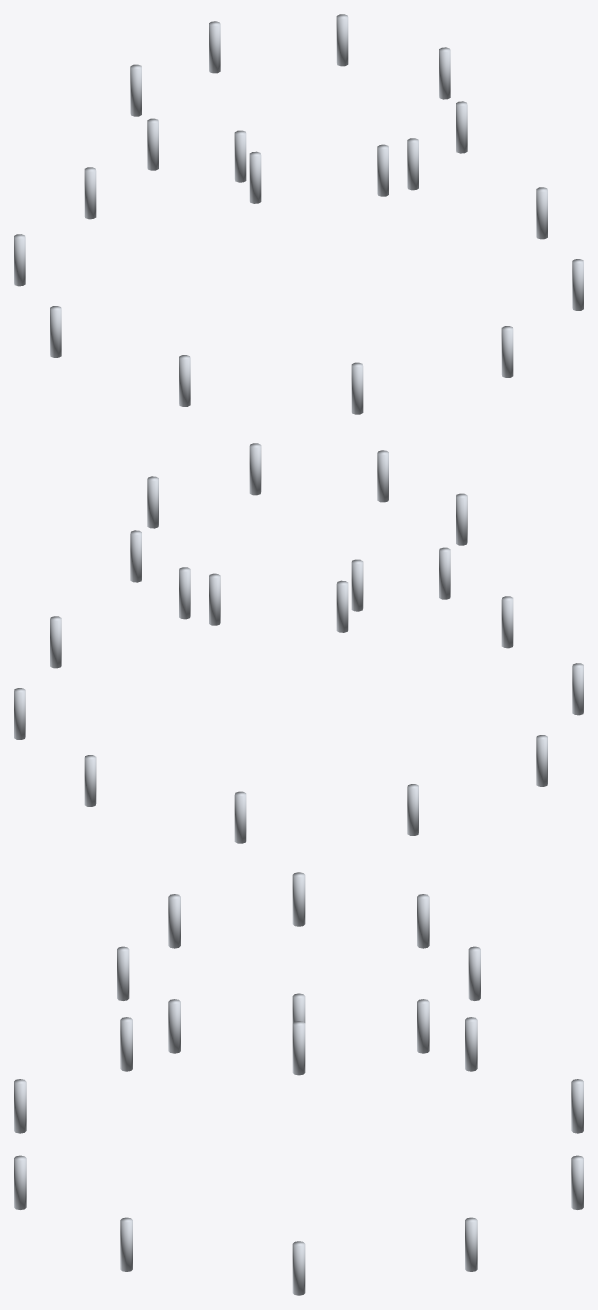
File: KRM_M35_P5MODL_candles.fbx
3 renders of one model, top to bottom at view 1: azimuth 30°, elevation 25°; view 2: azimuth 150°, elevation 25°; view 3: azimuth 270°, elevation 25°, orthographic. The views are drawn at different scales.
Visible parts, largest first — view 1: KRM_M35_P5MODL_candles; view 2: KRM_M35_P5MODL_candles; view 3: KRM_M35_P5MODL_candles.
Boxes of the visible parts, x1,y1,x2,y2 form: KRM_M35_P5MODL_candles: (14,14,583,414); KRM_M35_P5MODL_candles: (14,443,583,843); KRM_M35_P5MODL_candles: (14,872,583,1295).
Bounding box in the file's own units: 143 × 58 × 136.
1 material, 1 textured.
